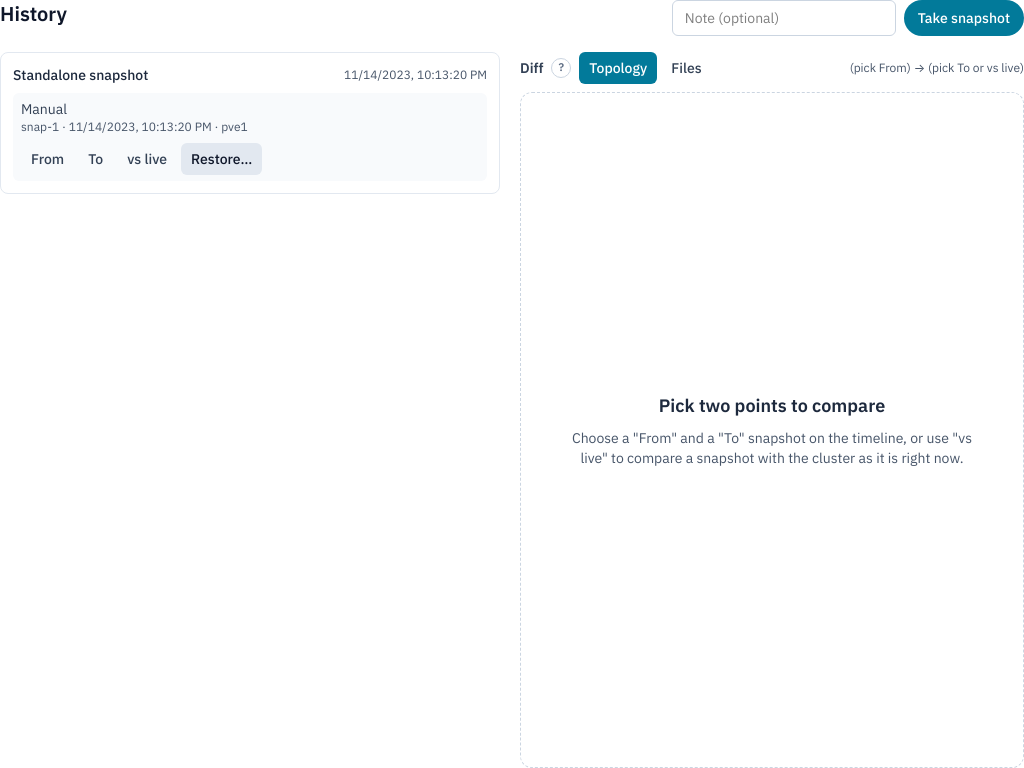
it: HistoryPage read-only gating › enables both for a full-capability session
The width and height of the screenshot is (1024, 768).
Expected: the button "Take snapshot" is enabled, [904, 0, 1023, 36]
Expected: the text "snap-1 · 11/14/2023, 10:13:20 PM · pve1" is shown, [21, 119, 248, 135]
Click the button "Restore…" at point(222, 159), box [181, 143, 262, 175]
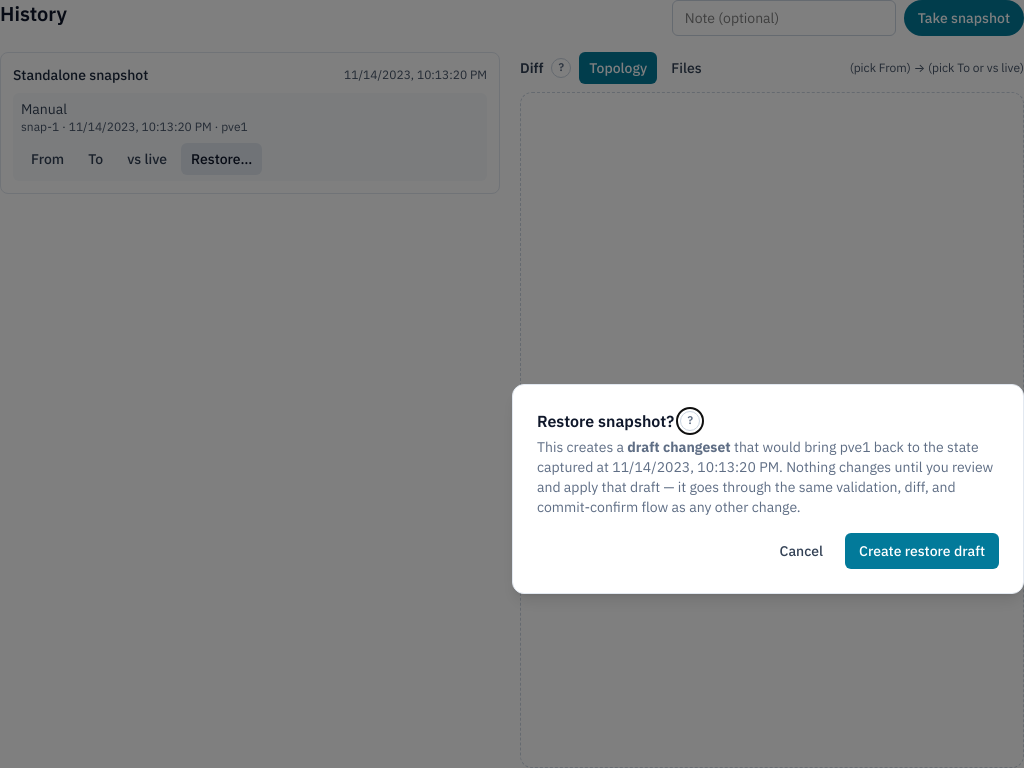
Result: the button "Create restore draft" is enabled at [845, 533, 999, 569]
